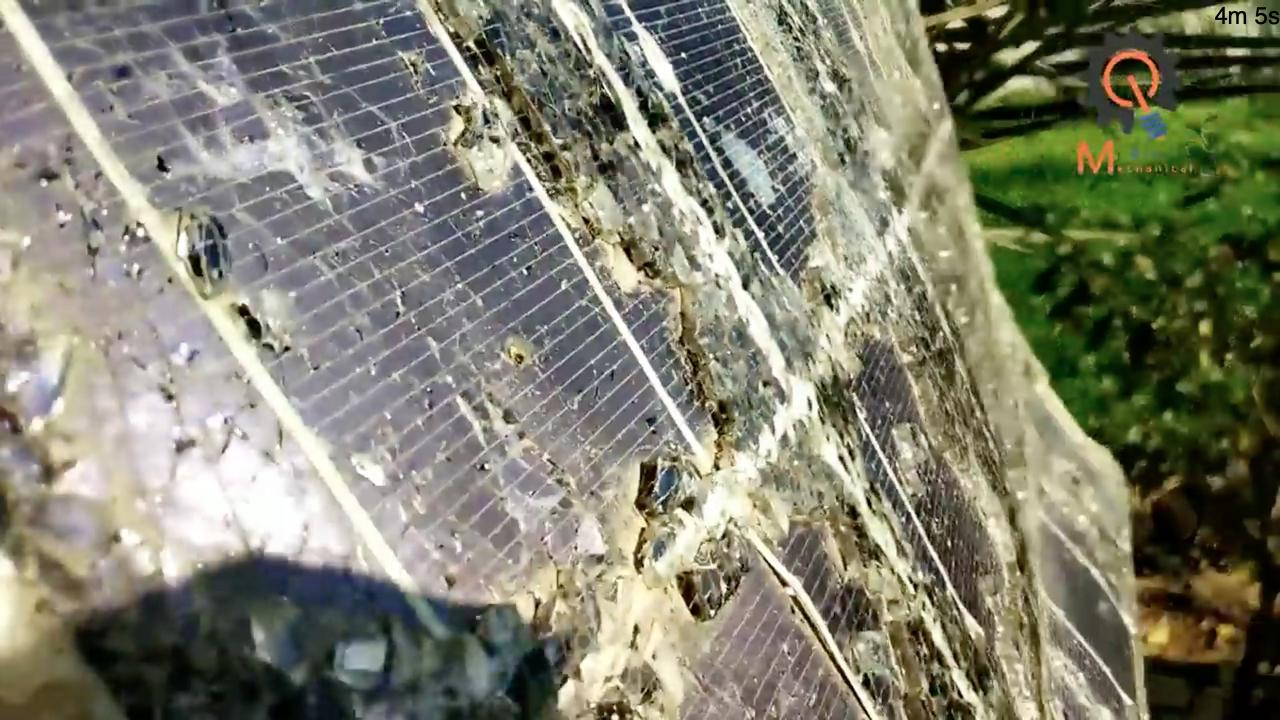Crack: (702, 381, 1005, 697), (442, 9, 741, 300), (378, 313, 622, 567), (159, 25, 392, 211)
